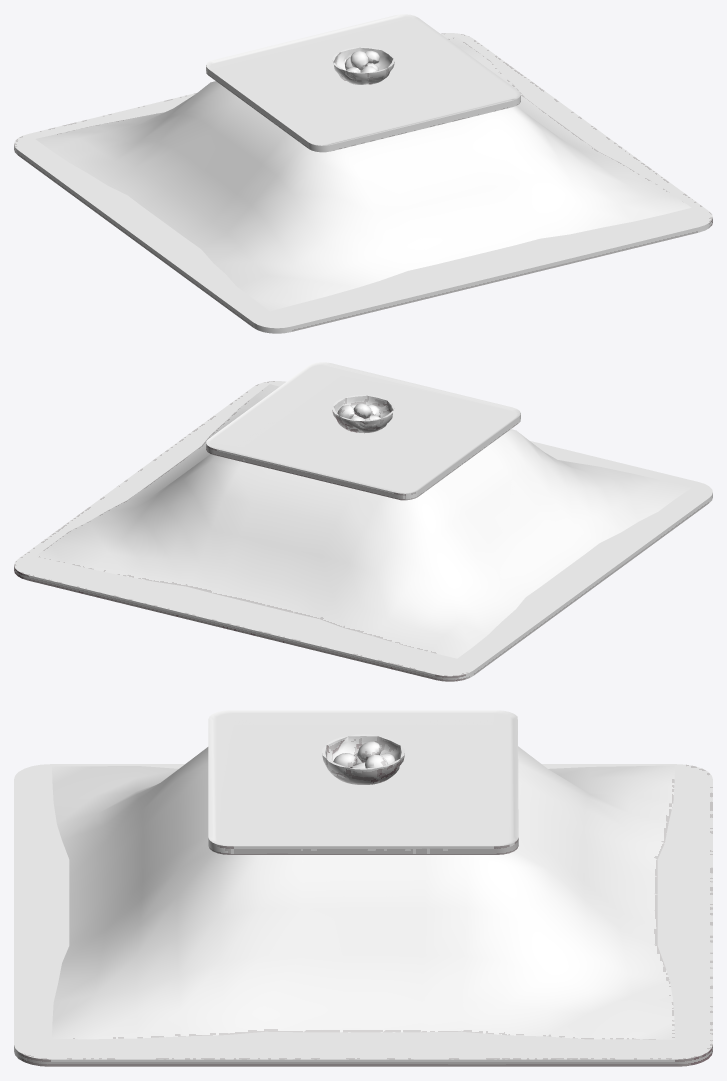
File: kotatsu_lp.glb
3 views of the same model, one above another, from view 1: azimuth 30°, elevation 25°; view 2: azimuth 150°, elevation 25°; view 3: azimuth 270°, elevation 25° (orthographic). The views are drawn at different scales.
Parts seen in each view (by area): view 1: mesh; view 2: mesh; view 3: mesh.
Boxes of the visible parts, x1,y1,x2,y2 form: mesh: (14,14,712,333); mesh: (14,362,712,681); mesh: (14,710,712,1066).
Bounding box in the file's own units: 1.63 × 0.45 × 1.63.
1 material, 1 textured.
